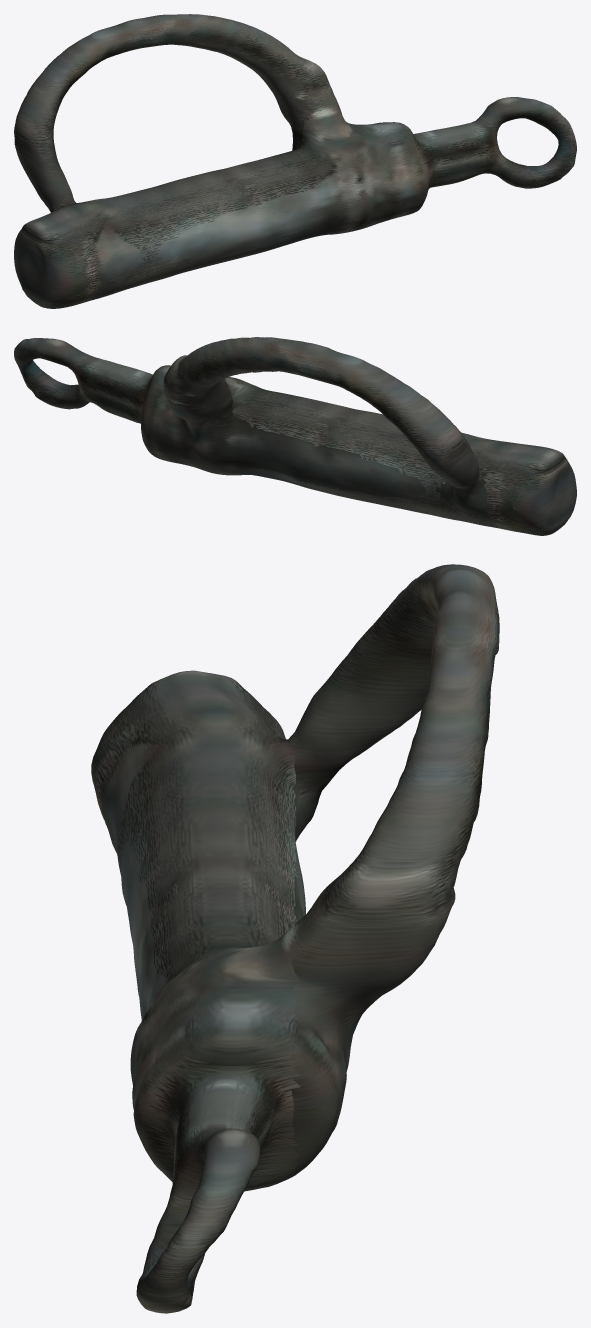
File: kfl-2142.glb
3 renders of one model, top to bottom at view 1: azimuth 30°, elevation 25°; view 2: azimuth 150°, elevation 25°; view 3: azimuth 270°, elevation 25°, orthographic. The views are drawn at different scales.
Parts seen in each view (by area): view 1: geometry_0; view 2: geometry_0; view 3: geometry_0.
Boxes of the visible parts, x1=… form: geometry_0: x1=14, y1=14, x2=576, y2=308; geometry_0: x1=14, y1=337, x2=576, y2=535; geometry_0: x1=91, y1=564, x2=499, y2=1313.
Bounding box in the file's own units: 0.9926 × 0.3479 × 0.3232.
Materials: 1 (1 with a texture image).
